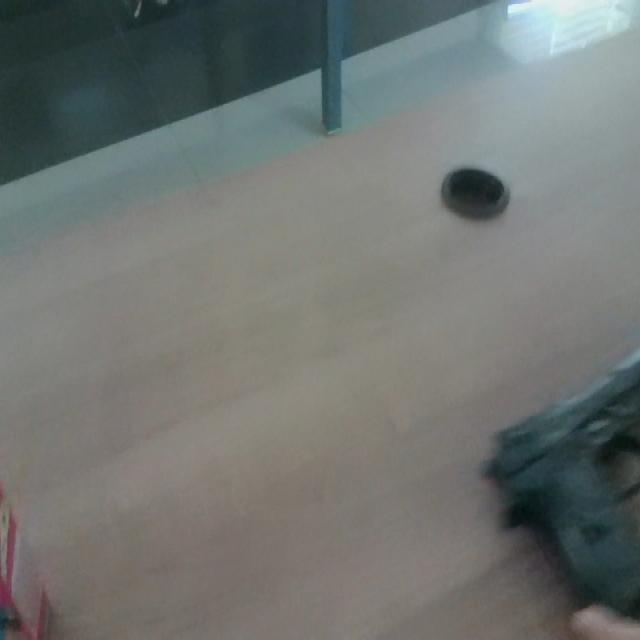handgun: (472, 303, 640, 640)
